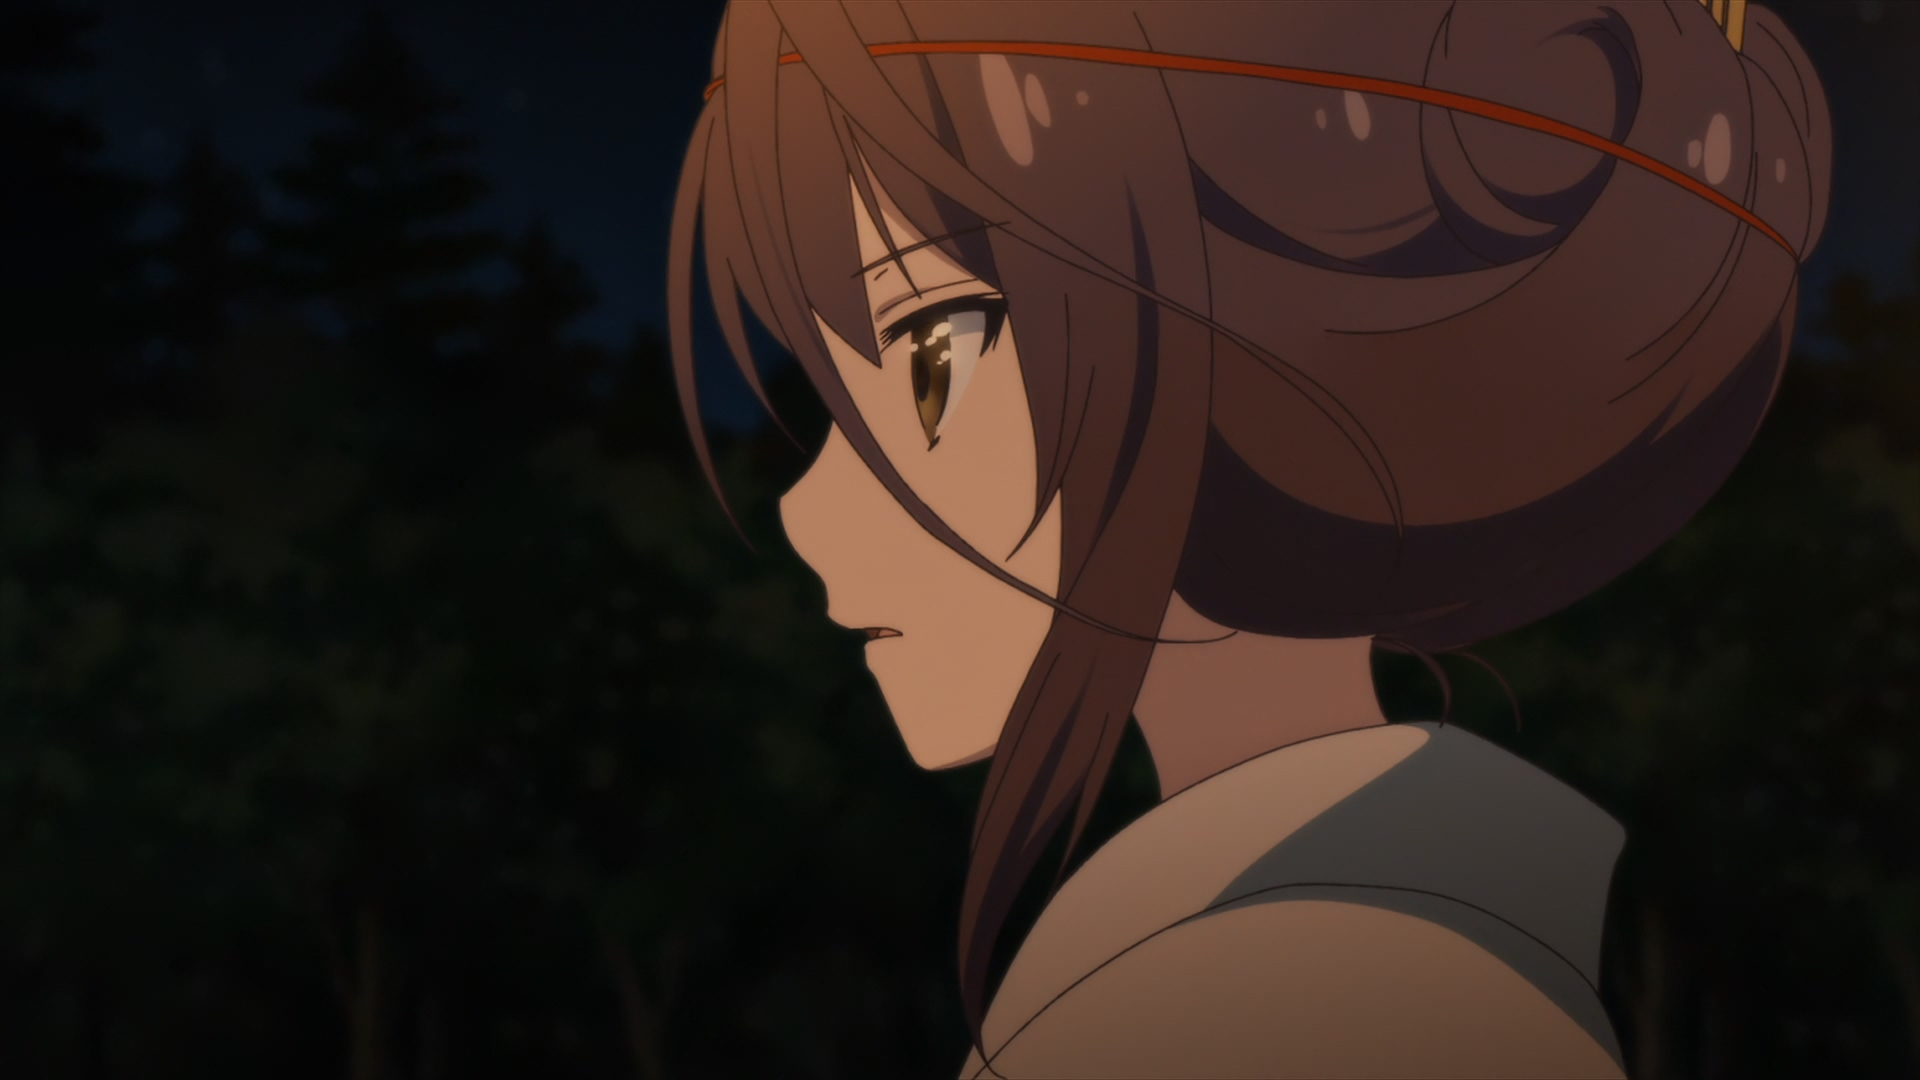皋: (665, 1, 1830, 1080)
